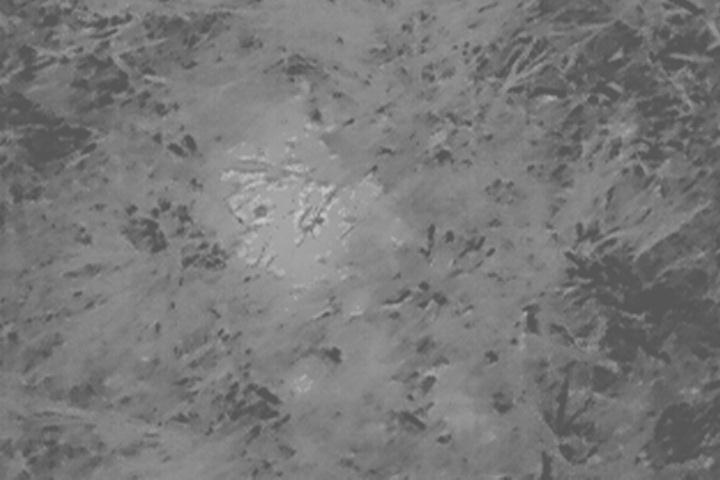landmine: (202, 129, 403, 278)
